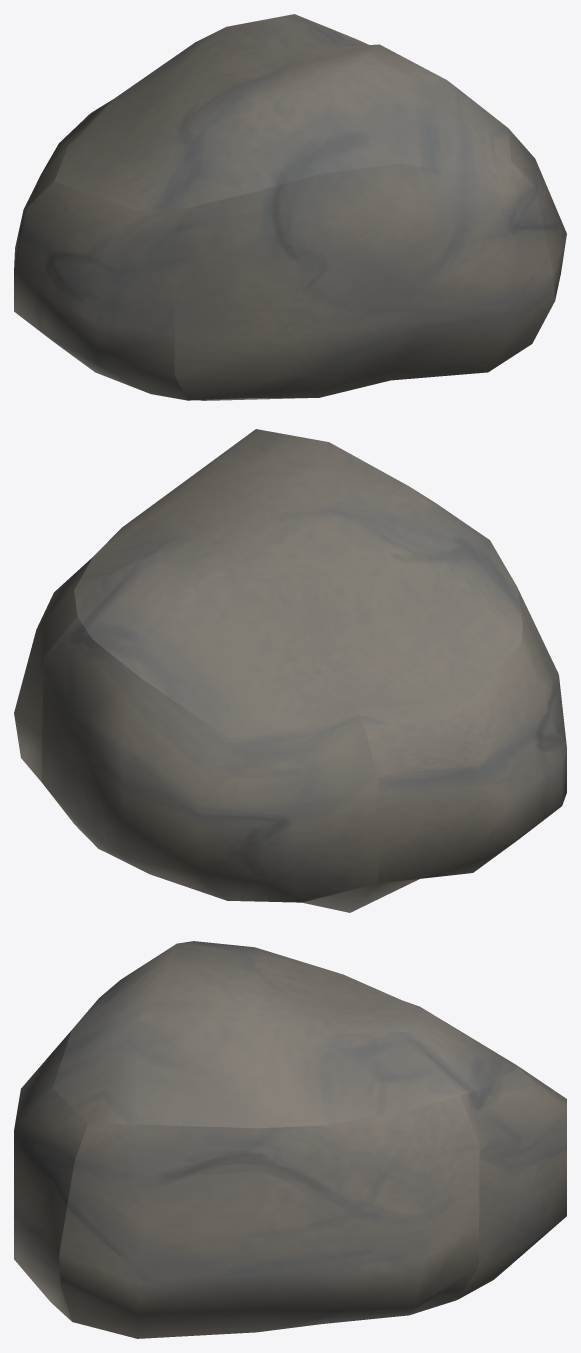
File: Rock1.fbx
The picture shows the model from 3 angles, top to bottom: view 1: azimuth 30°, elevation 25°; view 2: azimuth 150°, elevation 25°; view 3: azimuth 270°, elevation 25°; orthographic projection. The views are drawn at different scales.
Parts seen in each view (by area): view 1: pCube1; view 2: pCube1; view 3: pCube1.
Boxes of the visible parts, left/top/right/bottom form: pCube1: left=14, top=14, right=566, bottom=400; pCube1: left=14, top=429, right=566, bottom=912; pCube1: left=14, top=941, right=566, bottom=1338.
Size of the model in its own units: 0.0681 by 0.0435 by 0.0676.
1 material, 1 textured.
